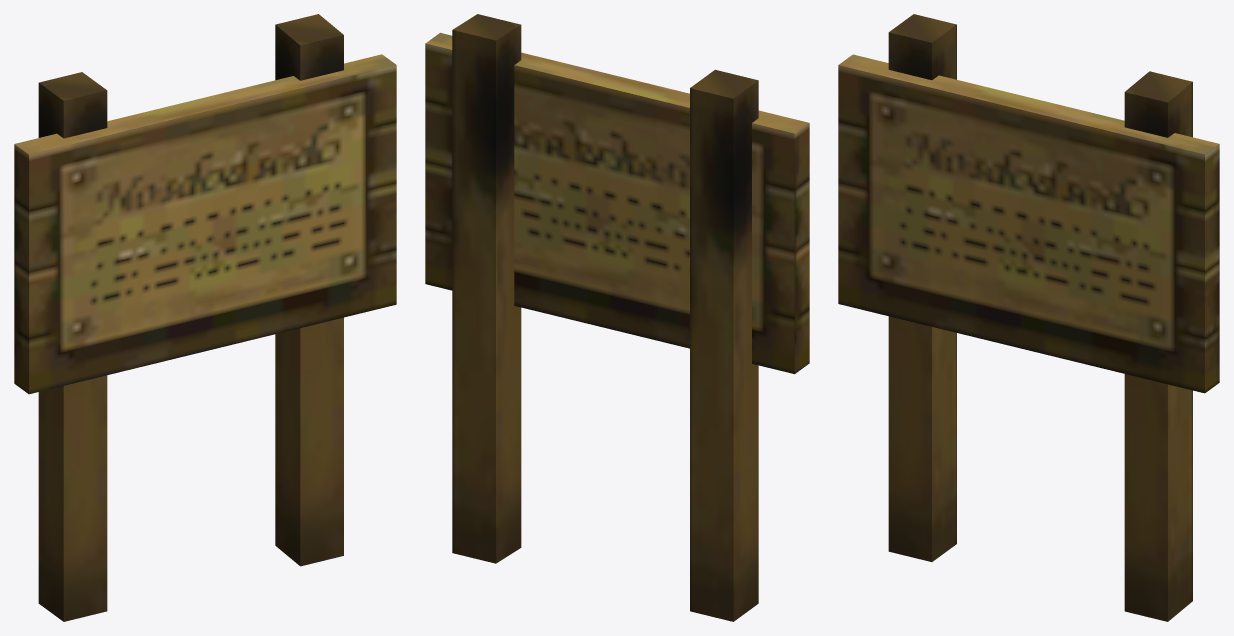
3 renders of one model, left to right at view 1: azimuth 30°, elevation 25°; view 2: azimuth 150°, elevation 25°; view 3: azimuth 330°, elevation 25°, orthographic.
Visible parts, largest first — view 1: Sign02; view 2: Sign02; view 3: Sign02.
Boxes of the visible parts, bbox=[...] form: Sign02: bbox=[14, 14, 396, 621]; Sign02: bbox=[425, 14, 809, 621]; Sign02: bbox=[838, 14, 1219, 621].
Size of the model in its own units: 99.35 by 135 by 15.41.
